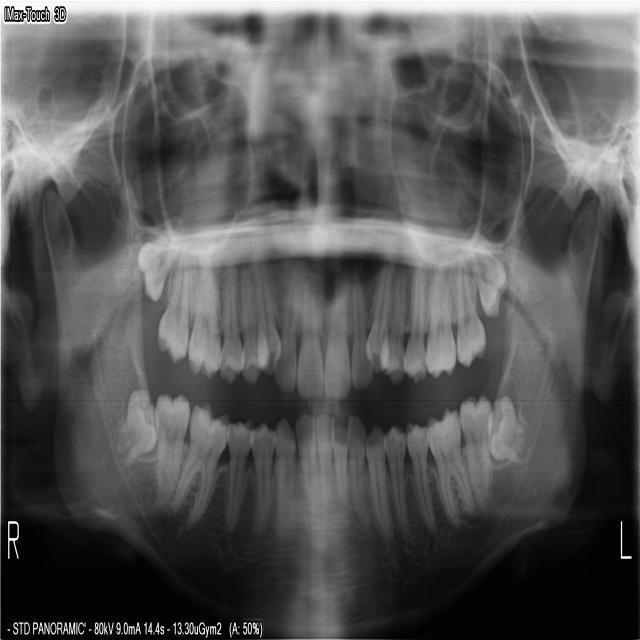LCD: (363, 420, 390, 543)
LCU: (362, 236, 396, 376)
LID: (344, 410, 365, 525), (329, 421, 349, 514)
LIU: (322, 268, 350, 402), (349, 260, 373, 391)
LMD: (423, 402, 473, 532), (455, 391, 493, 513), (482, 392, 527, 466)
LMU: (421, 248, 456, 380), (454, 246, 486, 370), (469, 239, 507, 322)
LPMD: (402, 415, 439, 537), (381, 418, 409, 538)
LPMU: (377, 243, 409, 387), (401, 243, 427, 384)
RCD: (270, 412, 296, 531)
RCU: (251, 233, 281, 380)
RID: (292, 409, 316, 529), (314, 409, 333, 525)
RIU: (294, 269, 322, 400), (271, 254, 297, 394)
RMD: (165, 397, 231, 530), (152, 388, 190, 508), (113, 383, 161, 470)
RMU: (185, 247, 222, 382), (154, 242, 189, 367), (134, 224, 182, 305)
RPMD: (220, 414, 256, 531), (246, 416, 275, 535)
RPMU: (215, 241, 246, 389), (237, 239, 267, 390)
